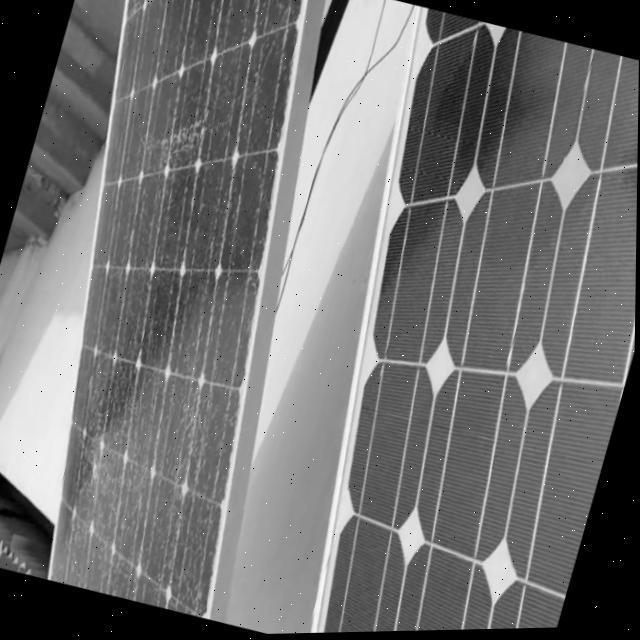Normal Solar Panel: (253, 5, 640, 636)
